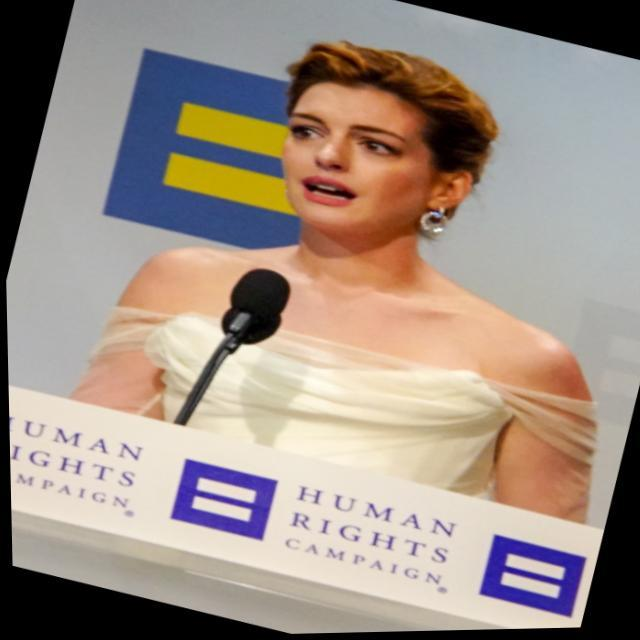Nonhelmet: (278, 38, 499, 246)
